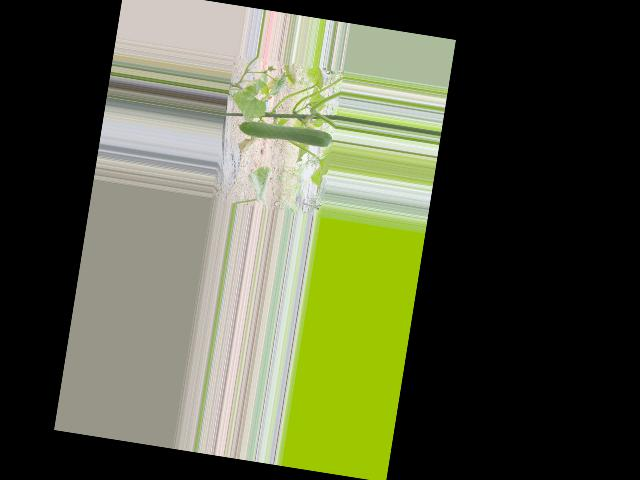cucumber: (235, 117, 332, 149)
